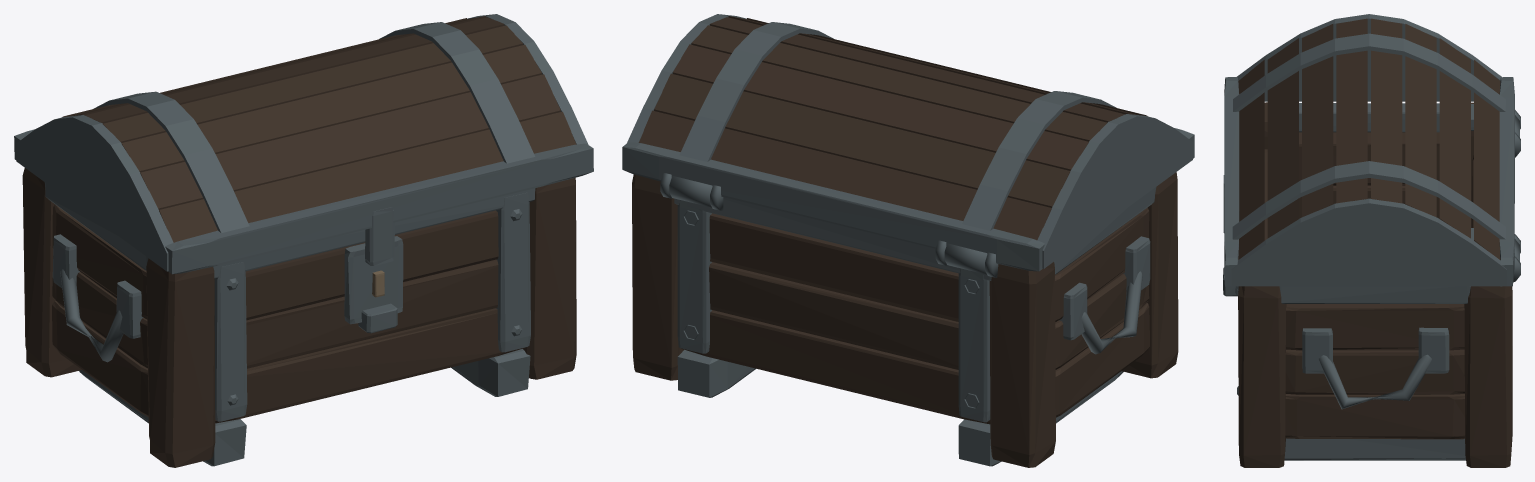
The model's file is spire_reliquary.glb.
3 renders of one model, left to right at view 1: azimuth 30°, elevation 25°; view 2: azimuth 150°, elevation 25°; view 3: azimuth 270°, elevation 25°, orthographic. The views are drawn at different scales.
Visible parts, largest first — view 1: Body__oak, ChestLid__oak, ChestLid__iron, Body__iron; view 2: Body__oak, ChestLid__oak, ChestLid__iron, Body__iron; view 3: Body__oak, ChestLid__oak, ChestLid__iron, Body__iron.
Boxes of the visible parts, x1,y1,x2,y2 form: Body__oak: (22,168,576,467); ChestLid__oak: (62,16,576,242); ChestLid__iron: (14,14,593,274); Body__iron: (44,182,535,466); Body__oak: (632,172,1178,467); ChestLid__oak: (639,16,1147,240); ChestLid__iron: (622,14,1194,274); Body__iron: (660,173,1156,466); Body__oak: (1238,102,1512,467); ChestLid__oak: (1238,18,1500,259); ChestLid__iron: (1223,14,1519,286); Body__iron: (1223,103,1520,460).
Size of the model in its own units: 1.5 by 1.03 by 0.9738.
